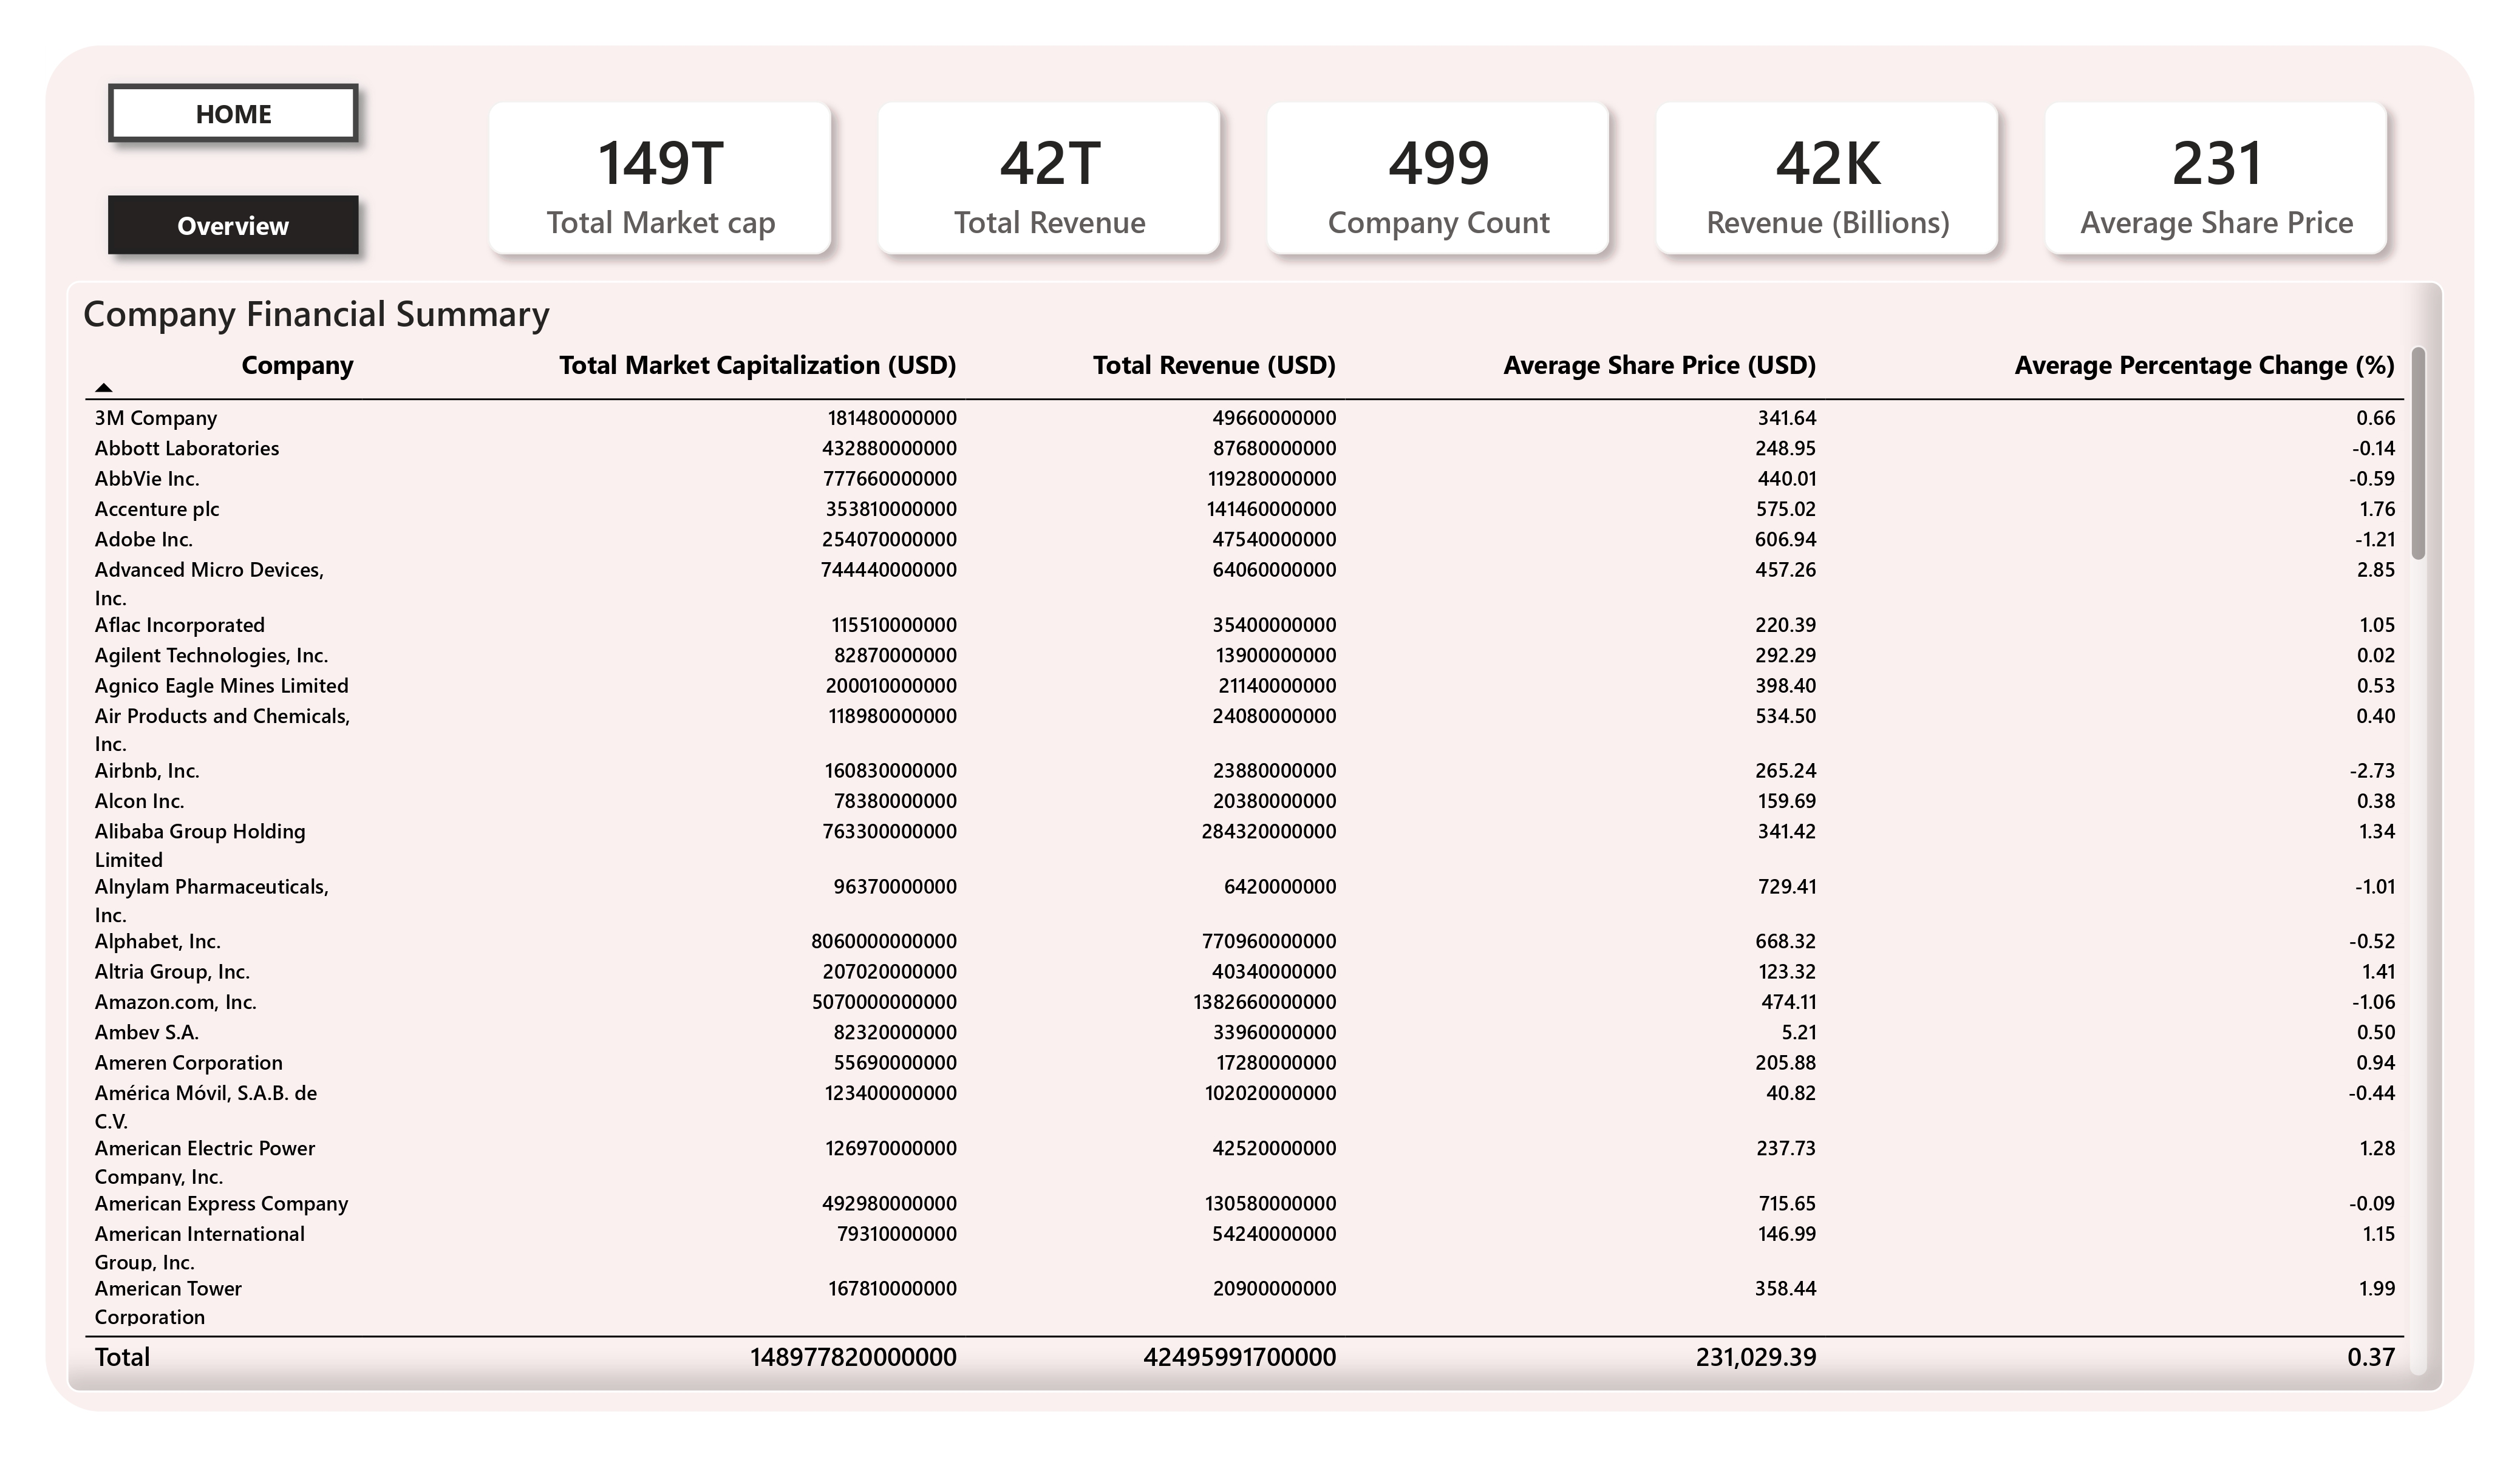

Layout of this report page (visuals, bound fields, positions):
{"tool":"powerbi","page":{"name":"Overview","canvas":[1280,720],"ordinal":1},"visuals":[{"type":"shape","box":[0,0,1280,720],"z":0},{"type":"tableEx","title":"Company     Financial    Summary","fields":{"Values":["Global_Companies_MarketCap_Revenue.Company_name","Sum(Global_Companies_MarketCap_Revenue.Market_cap)","Sum(Global_Companies_MarketCap_Revenue.Revenue)","Sum(Global_Companies_MarketCap_Revenue.Stock_price)","Sum(Global_Companies_MarketCap_Revenue.Percentage_change)"]},"box":[11.1,124.4,1253.3,585.6],"z":1000},{"type":"cardVisual","fields":{"Data":["Global_Companies_MarketCap_Revenue.Total Market cap","Global_Companies_MarketCap_Revenue.Total Revenue","Global_Companies_MarketCap_Revenue.Company Count","Global_Companies_MarketCap_Revenue.Revenue (Billions)","Global_Companies_MarketCap_Revenue.Average Stock Price"]},"box":[204.4,0,1060,138.9],"z":2000},{"type":"pageNavigator","box":[24.4,11.1,150,107.8],"z":2001}]}

Visuals, with their boxes in screenshot pixels (x1, y1, x2, y2):
shape: [x1=46, y1=46, x2=2474, y2=1411]
"Company     Financial    Summary" tableEx: [x1=67, y1=282, x2=2445, y2=1393]
cardVisual - Global_Companies_MarketCap_Revenue.Total Market cap x Global_Companies_MarketCap_Revenue.Total Revenue: [x1=434, y1=46, x2=2445, y2=309]
pageNavigator: [x1=92, y1=67, x2=376, y2=271]
